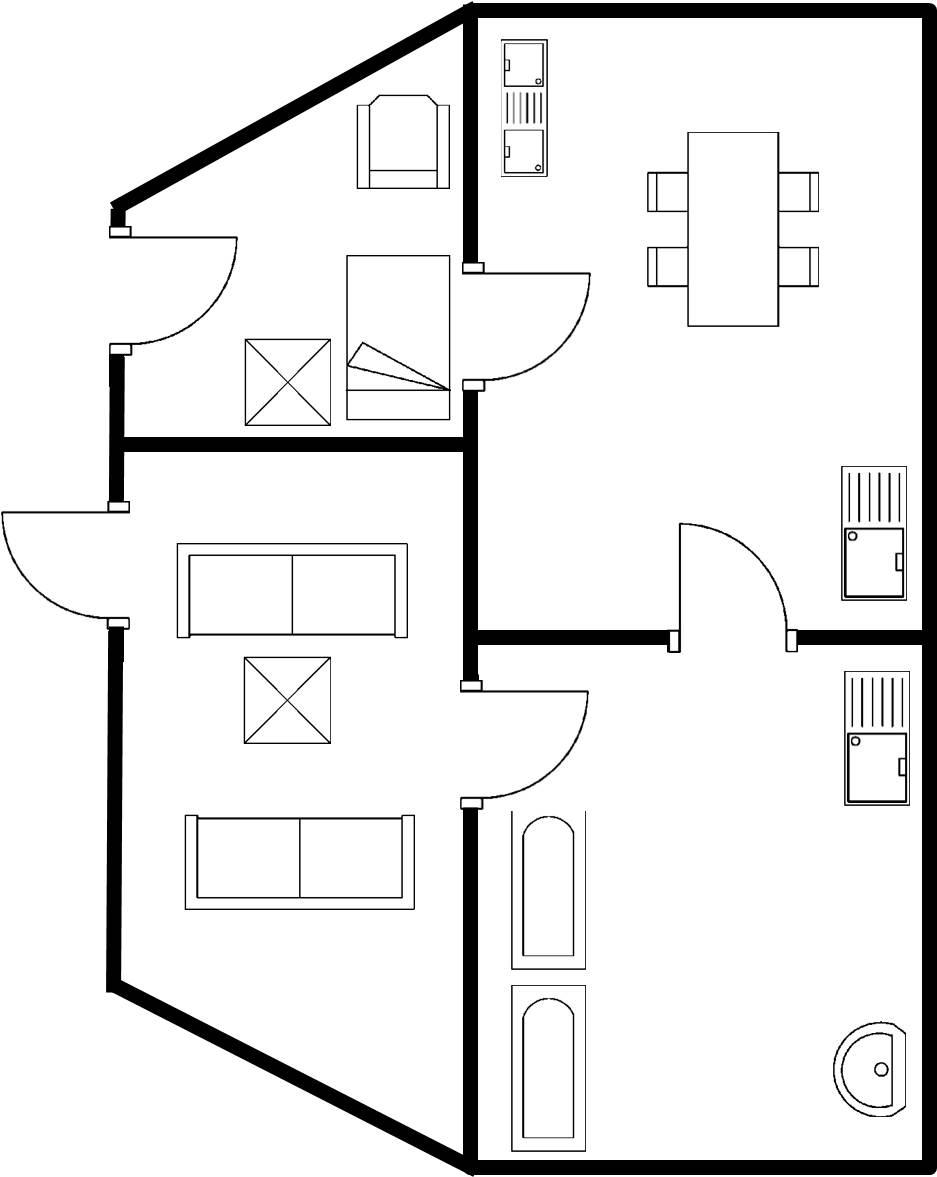sink: (492, 30, 557, 186)
